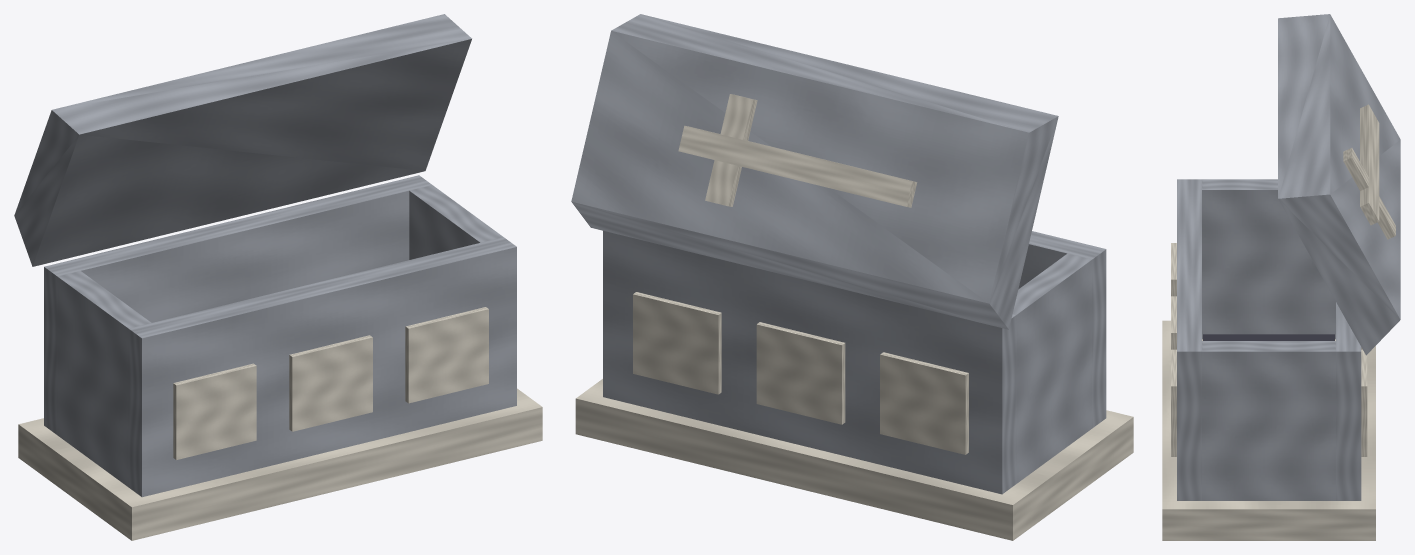
File: vampire-crypt-and-gothic-cathedral-sarcophagus-open-fbb28763__22981.glb
The picture shows the model from 3 angles, left to right: view 1: azimuth 30°, elevation 25°; view 2: azimuth 150°, elevation 25°; view 3: azimuth 270°, elevation 25°; orthographic projection. The views are drawn at different scales.
Parts seen in each view (by area): view 1: sarcophagus-open, sarcophagus-lid; view 2: sarcophagus-open, sarcophagus-lid (×2); view 3: sarcophagus-open, sarcophagus-lid (×2).
Part boxes in pixels (<box>): sarcophagus-open: <box>18,175,542,540</box>; sarcophagus-lid: <box>14,14,471,266</box>; sarcophagus-open: <box>575,231,1133,540</box>; sarcophagus-lid (×2): <box>571,14,1058,329</box>; sarcophagus-open: <box>1162,179,1375,540</box>; sarcophagus-lid (×2): <box>1278,14,1400,355</box>.
Size of the model in its own units: 2.3 by 1.95 by 1.23.
Materials: 3 (2 with a texture image).
